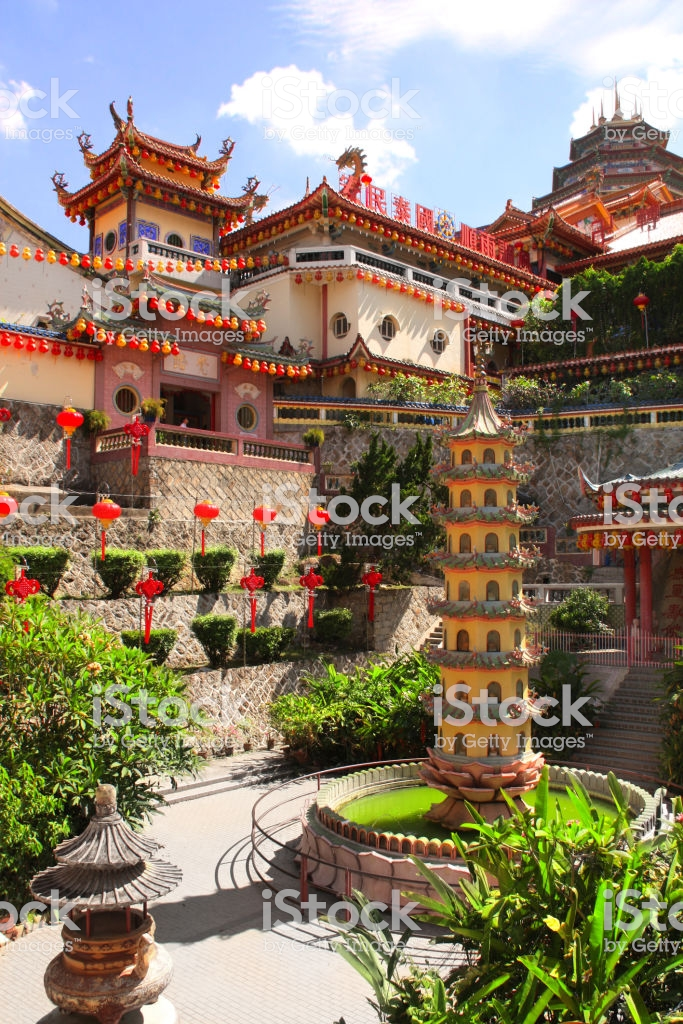Buddhist Temple: (14, 51, 683, 786)
